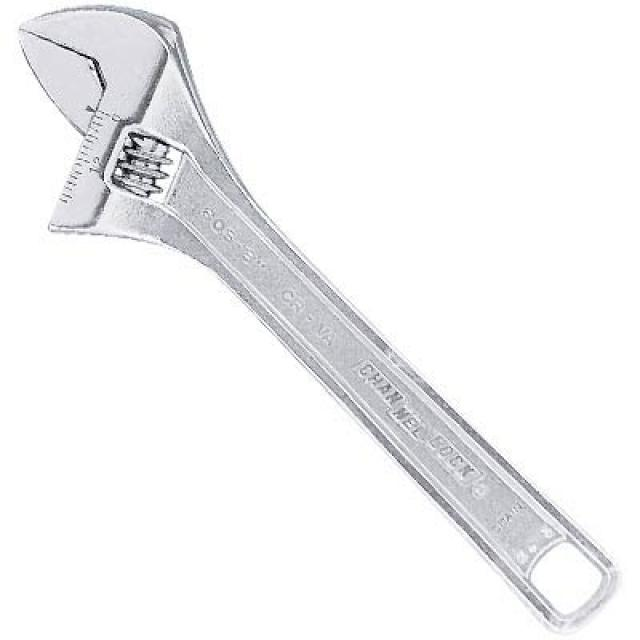wrench: (0, 0, 624, 616)
